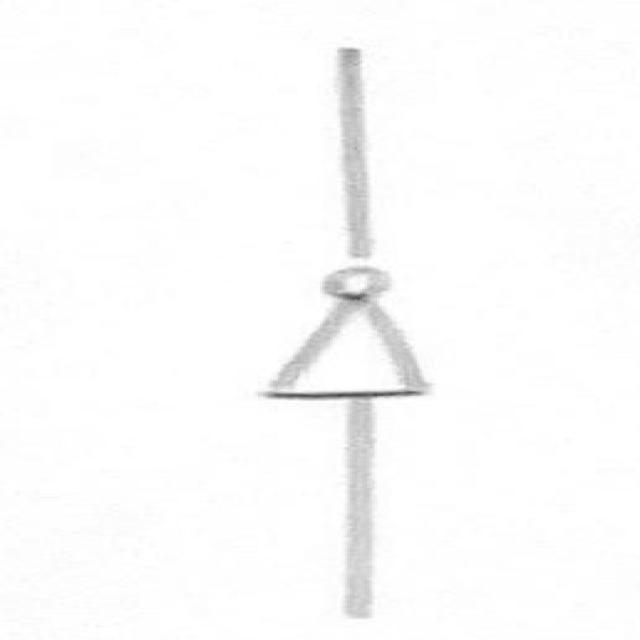NOT: (204, 237, 536, 446)
